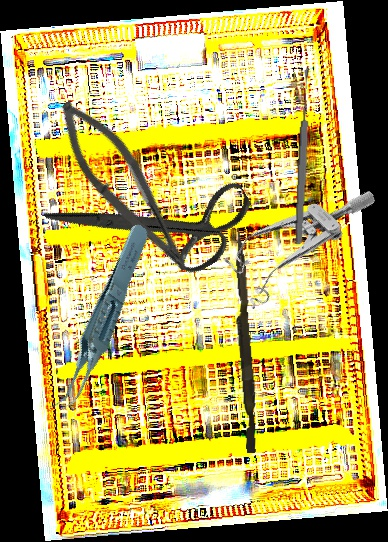Iris Scissors: (43, 121, 268, 325)
Micro Scissor: (41, 89, 211, 282)
Pusher: (227, 227, 262, 454)
Speculum: (212, 150, 378, 321)
Surgical Spoon: (293, 66, 313, 246)
Tissue Forceps: (15, 221, 184, 417)
